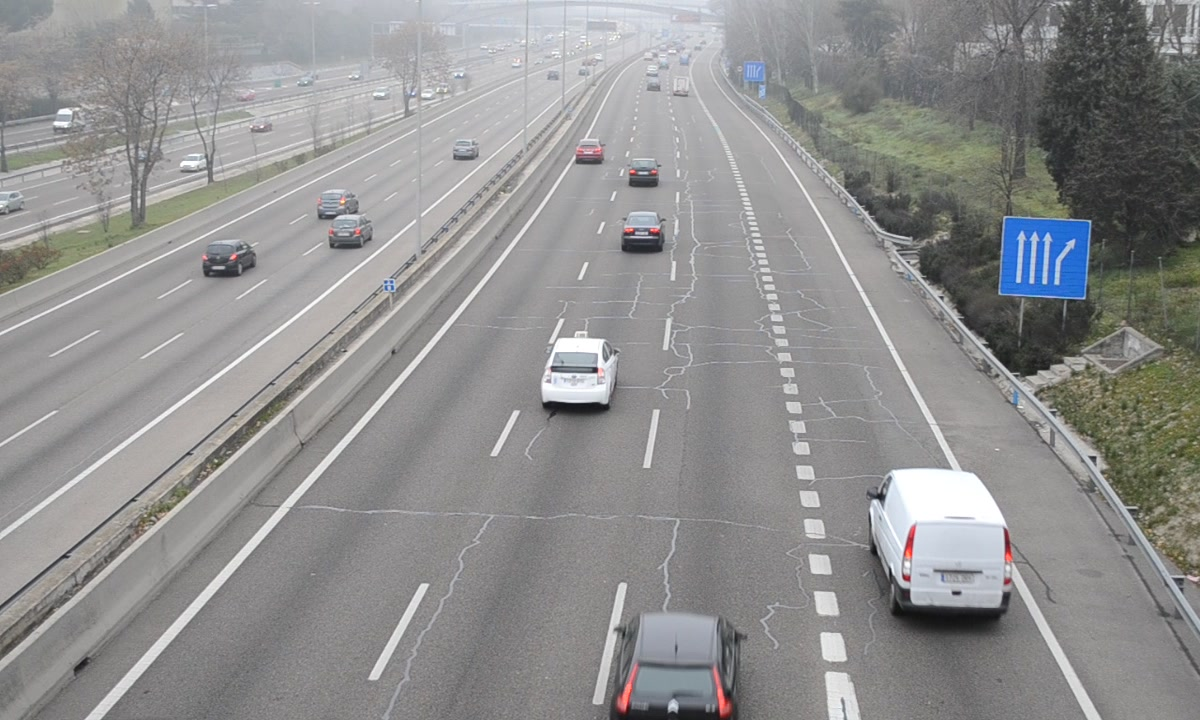car: (607, 615, 741, 720), (542, 336, 613, 405), (621, 211, 666, 252), (627, 155, 660, 186), (575, 137, 605, 164)
van: (868, 468, 1013, 618)
